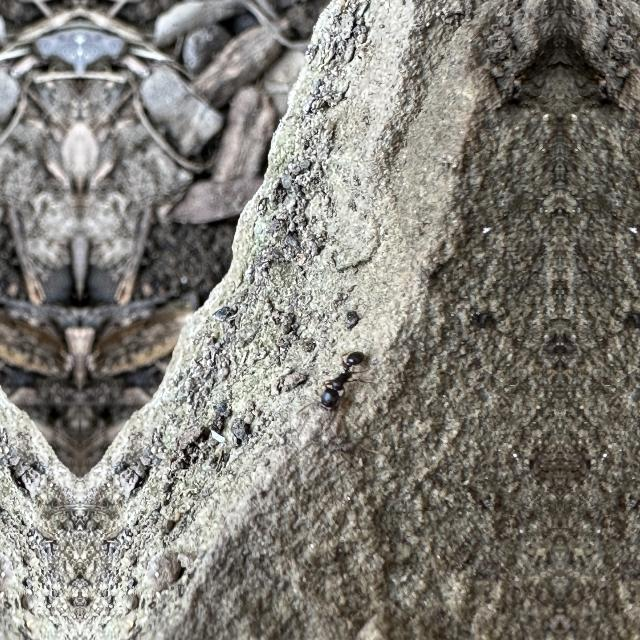Tetramorium: (310, 342, 370, 418)
